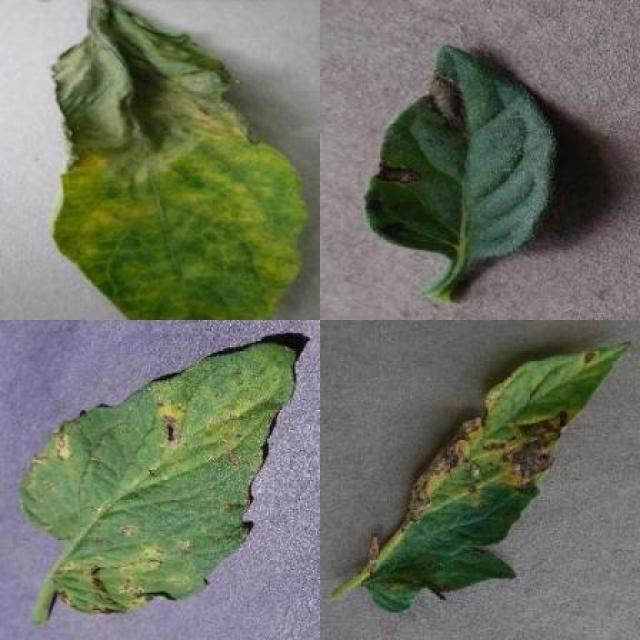Early Blight: (369, 342, 630, 618), (366, 44, 561, 259)
Late Blight: (46, 0, 307, 320)
Septoria: (21, 342, 296, 614)
